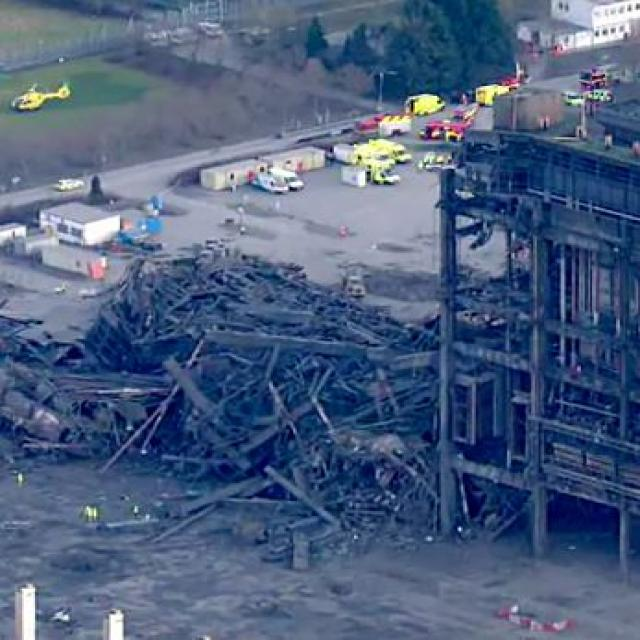collapsed_building: (55, 240, 515, 532)
